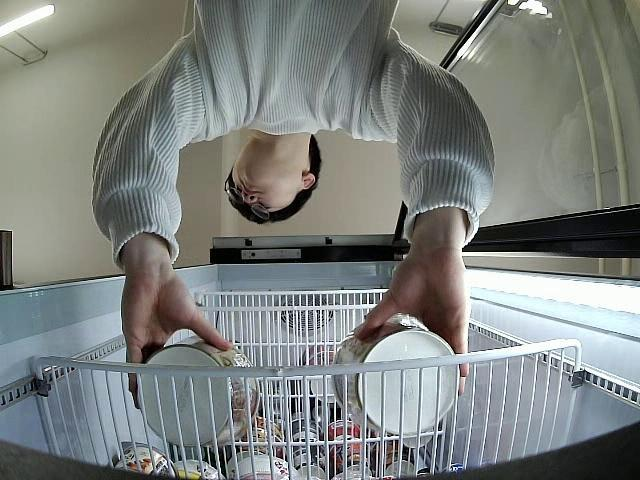03_chapagetti_L: (331, 318, 462, 437), (136, 336, 259, 447)
